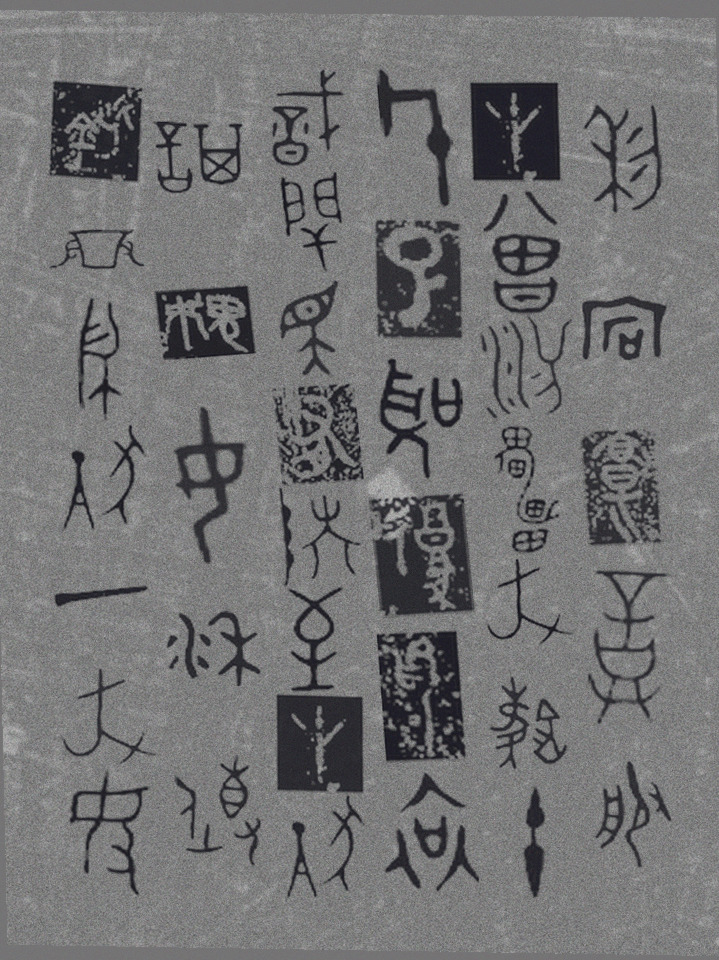char: (365, 489, 479, 622), (584, 566, 676, 729), (170, 402, 253, 569), (374, 627, 469, 766), (380, 769, 482, 895), (371, 215, 468, 343), (373, 66, 458, 210), (374, 356, 467, 484), (44, 76, 148, 186), (66, 768, 154, 898), (480, 187, 565, 319), (171, 751, 265, 869), (476, 312, 574, 422), (269, 380, 367, 490), (578, 426, 665, 549), (56, 667, 160, 769), (58, 423, 151, 537), (468, 79, 563, 186), (273, 692, 367, 796), (491, 424, 564, 556), (591, 758, 676, 871), (282, 793, 367, 906), (581, 102, 665, 216), (277, 485, 363, 590), (152, 281, 259, 363), (487, 674, 570, 774), (484, 557, 576, 647), (163, 607, 263, 689), (267, 67, 347, 169), (151, 118, 248, 197), (277, 169, 345, 274), (284, 584, 348, 695), (276, 278, 345, 379), (578, 292, 671, 364), (74, 295, 125, 425), (47, 227, 147, 274), (517, 782, 550, 901), (52, 582, 151, 611)
